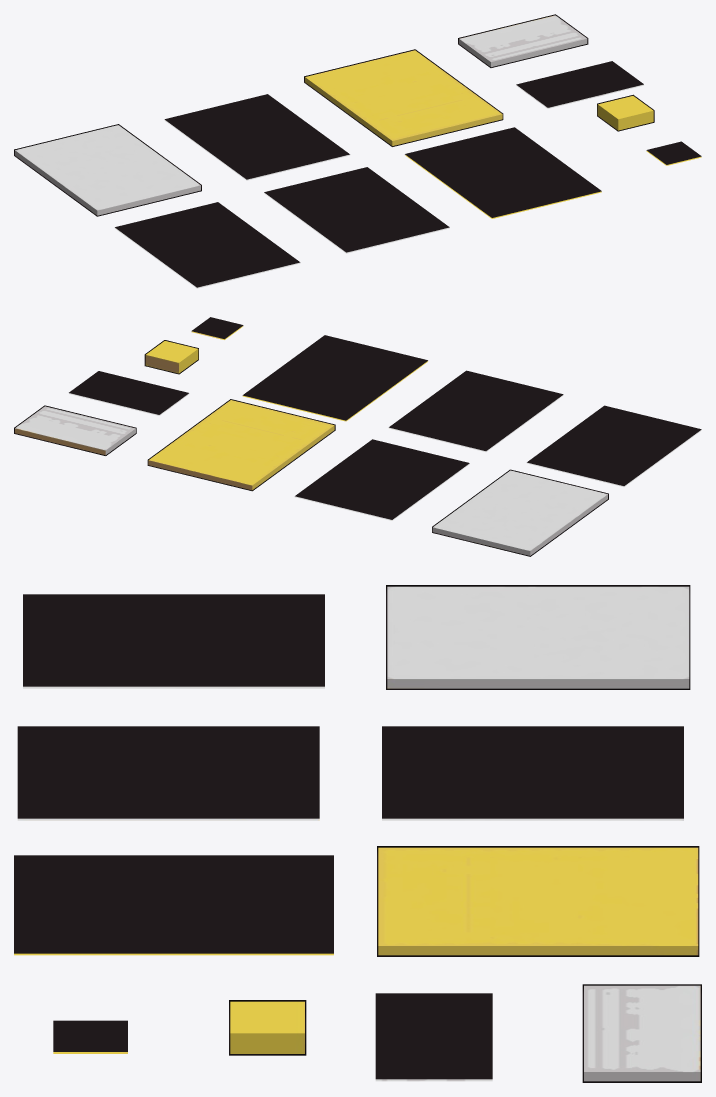
File: SM_Int_Notepads.fbx
3 renders of one model, top to bottom at view 1: azimuth 30°, elevation 25°; view 2: azimuth 150°, elevation 25°; view 3: azimuth 270°, elevation 25°, orthographic. The views are drawn at different scales.
Parts seen in each view (by area): view 1: SM_Int_Notepads; view 2: SM_Int_Notepads; view 3: SM_Int_Notepads.
Part boxes in pixels (x1=…): SM_Int_Notepads: x1=14, y1=14, x2=701, y2=288; SM_Int_Notepads: x1=14, y1=317, x2=701, y2=556; SM_Int_Notepads: x1=14, y1=585, x2=701, y2=1082.
Bounding box in the file's own units: 1.11 × 0.0243 × 0.661.
